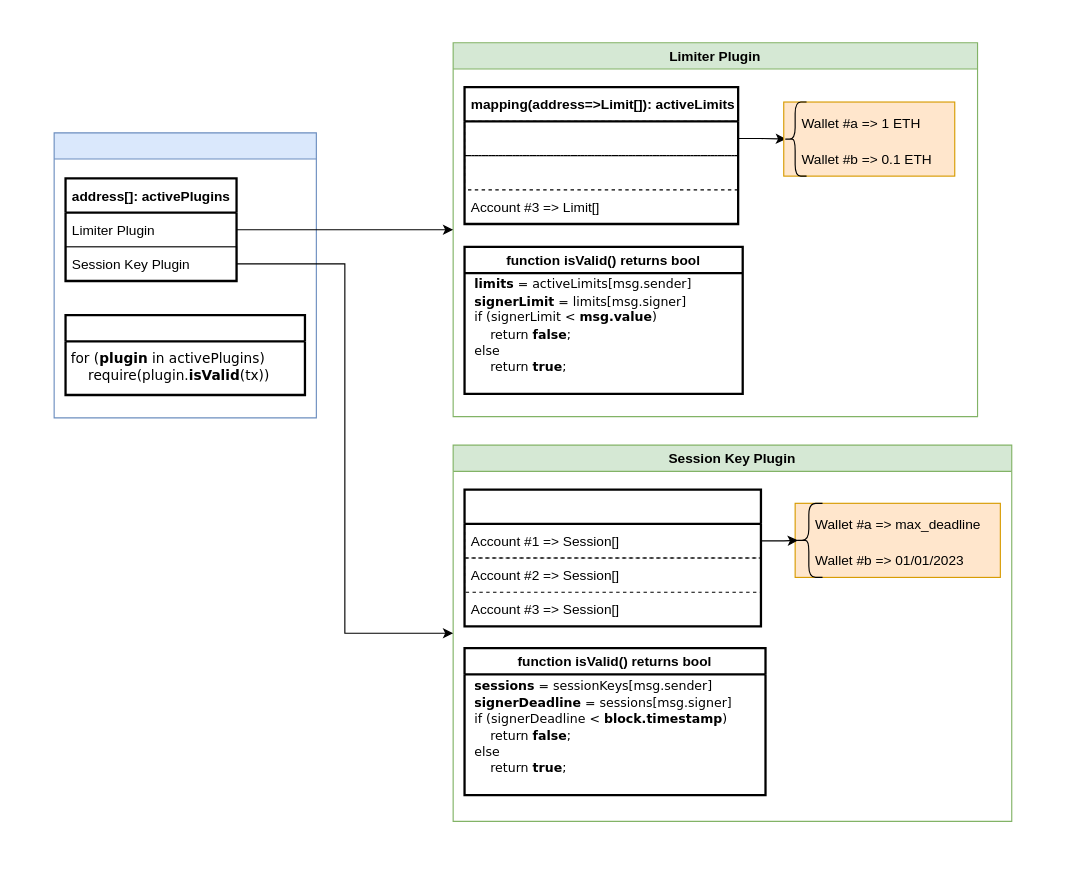
Some shapes in this 1065 by 871 pixel diagram are drawn without their labels. Here are the shapes that lost their labels. From the top down, the box of each, then its label:
(463, 120, 738, 156): Account #1 => Limit[]
(463, 154, 738, 190): Account #2 => Limit[]
(53, 132, 316, 418): Account #1
(64, 314, 306, 396): function validateTx()
(463, 488, 762, 627): mapping(address=>Session[]): sessionKeys
